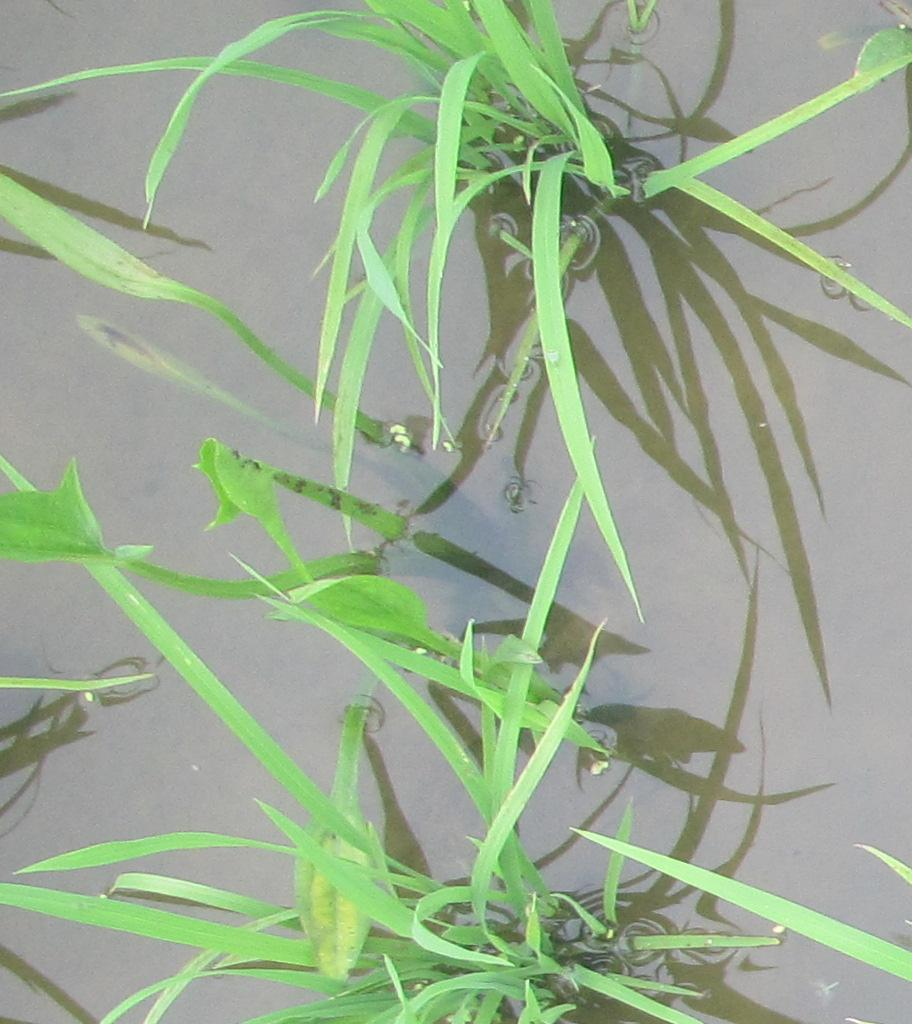Weed: (280, 577, 613, 761), (7, 466, 382, 602)
